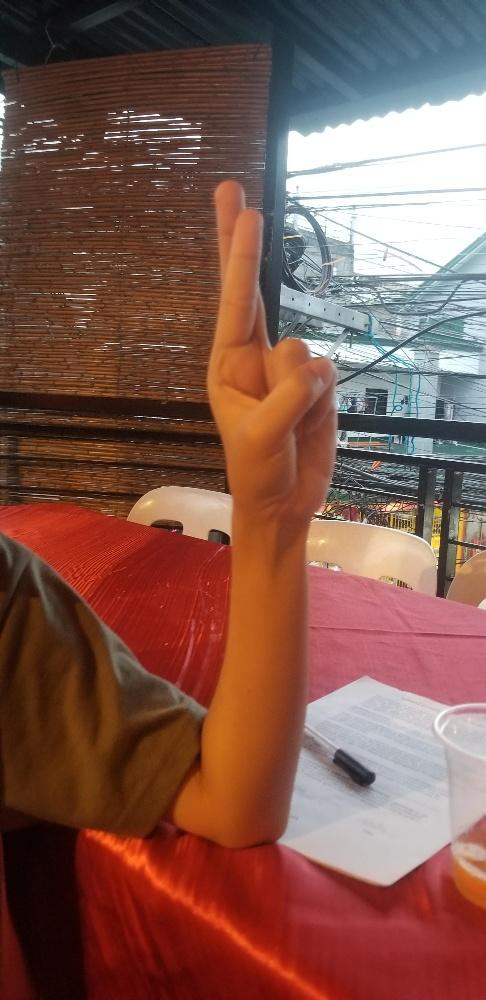r: (205, 177, 337, 524)
